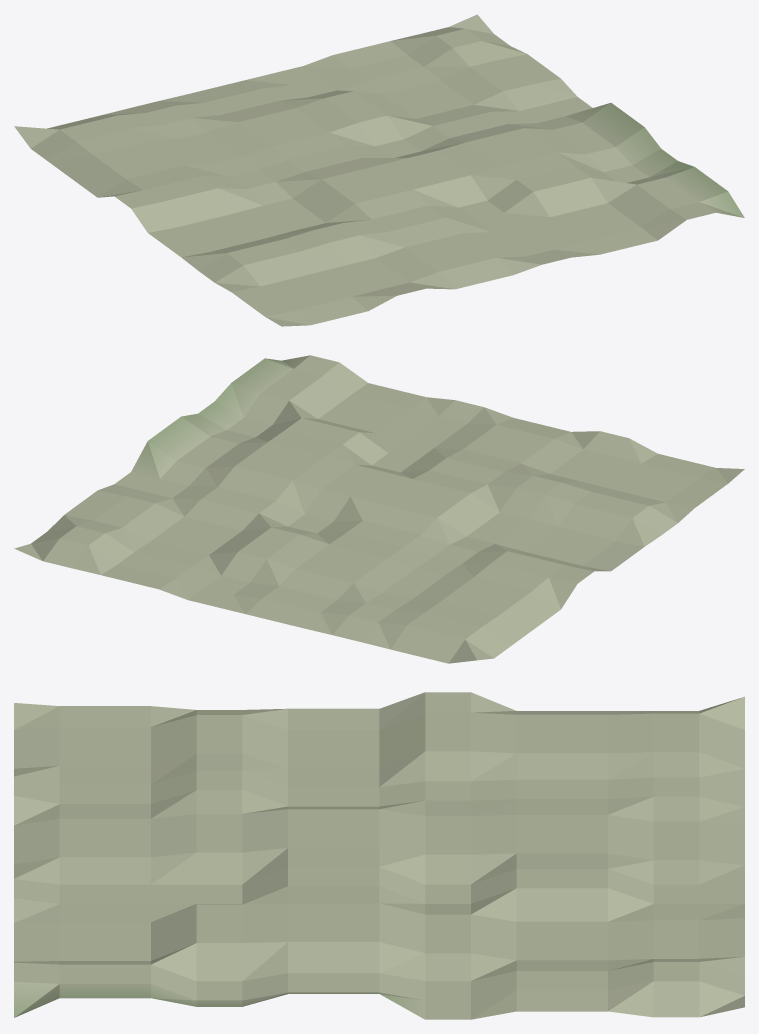
3 renders of one model, top to bottom at view 1: azimuth 30°, elevation 25°; view 2: azimuth 150°, elevation 25°; view 3: azimuth 270°, elevation 25°, orthographic. The views are drawn at different scales.
Bounding box in the file's own units: 32 × 1.24 × 32.
